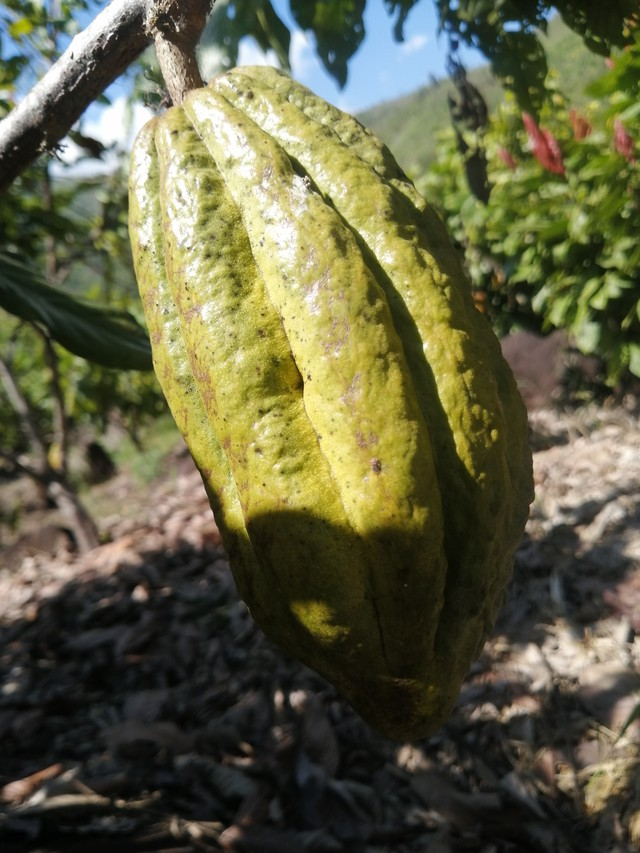Health: (106, 51, 552, 748)
